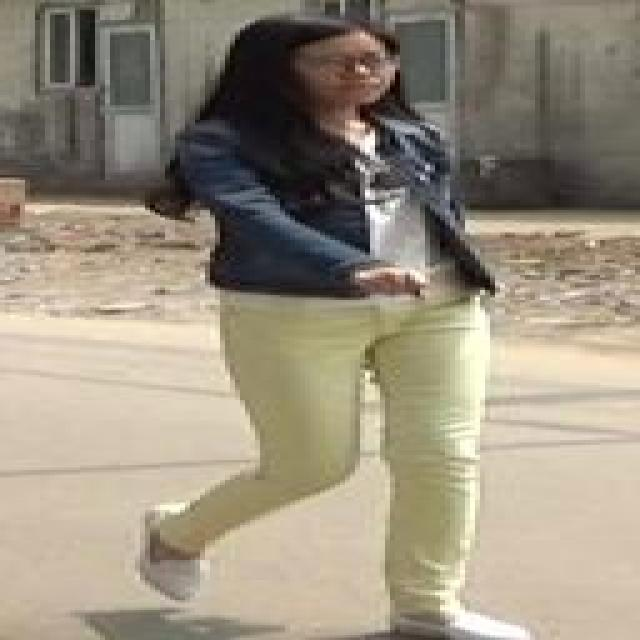adult: (131, 9, 538, 640)
